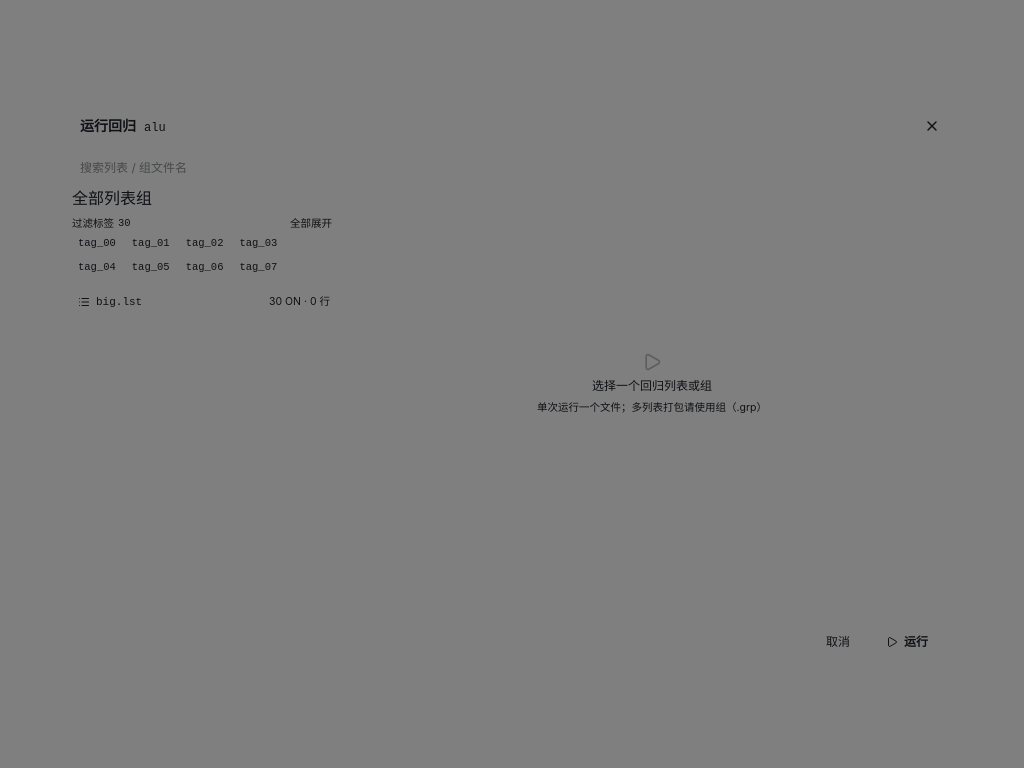
Test: RunConfigModal 选中与 entry 预览 › 左栏过滤标签默认折叠（仅前 12 个），展开按钮显示全部
Expected: the button with test id "reg-run-tagfilter-tag_00" is shown, x1=72 y1=234 x2=122 y2=254
Click the button with test id "reg-run-tagfilter-toggle": (311, 224) x1=286 y1=216 x2=336 y2=232
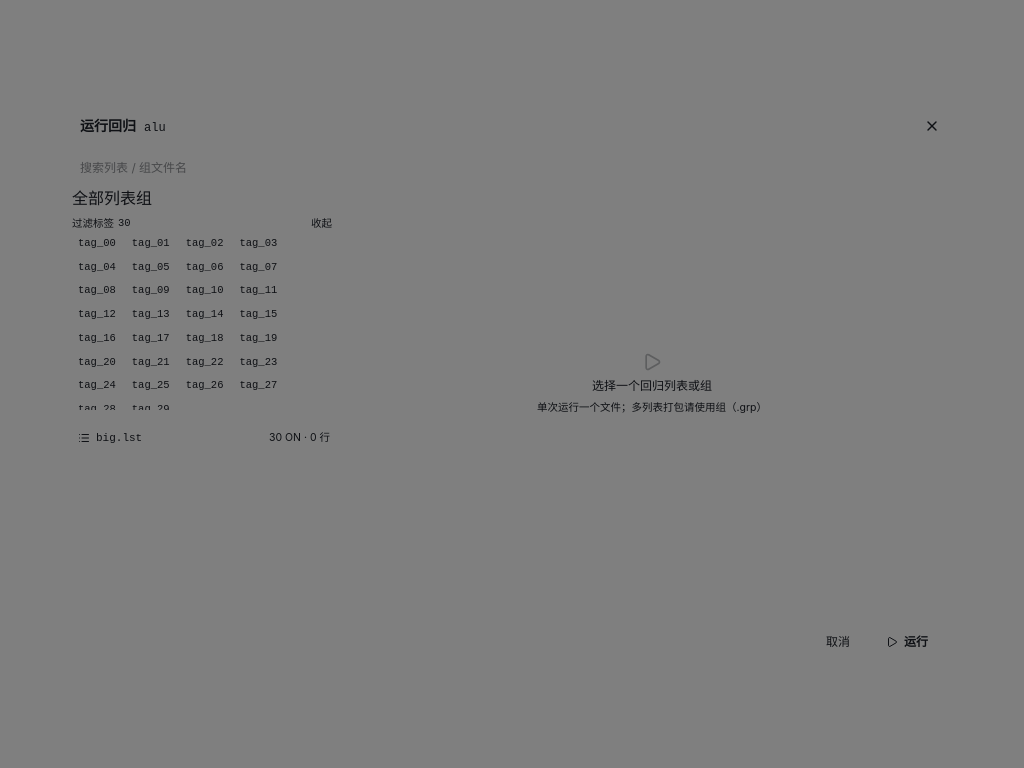
Now the button with test id "reg-run-tagfilter-tag_12" is shown, box x1=72 y1=305 x2=122 y2=325
